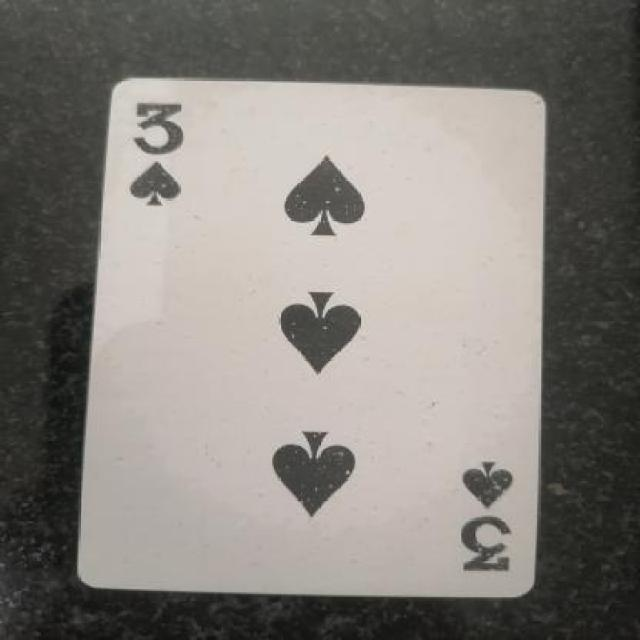3S: (105, 94, 210, 231), (440, 436, 532, 581)
